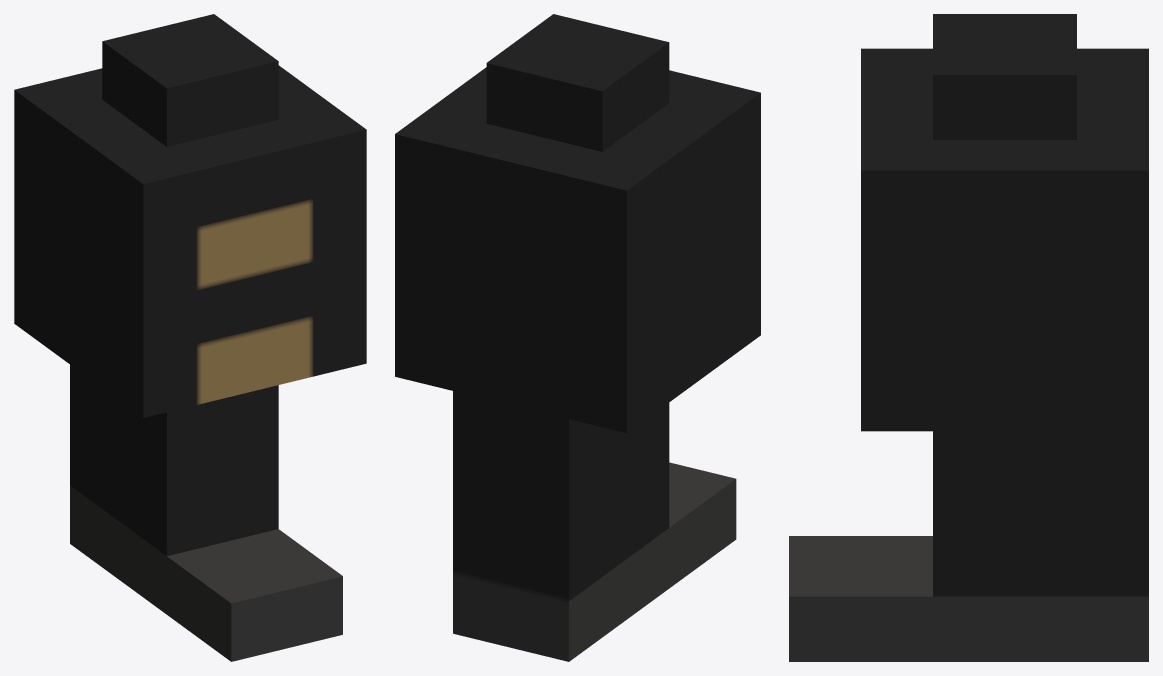
The model's file is Knee001.fbx.
The picture shows the model from 3 angles, left to right: view 1: azimuth 30°, elevation 25°; view 2: azimuth 150°, elevation 25°; view 3: azimuth 270°, elevation 25°; orthographic projection. The views are drawn at different scales.
Visible parts, largest first — view 1: Knee001; view 2: Knee001; view 3: Knee001.
Part boxes in pixels (x1,y1,x2,y2): Knee001: (14, 14, 366, 661); Knee001: (395, 14, 760, 661); Knee001: (789, 14, 1148, 661).
Bounding box in the file's own units: 4 × 9 × 5.
